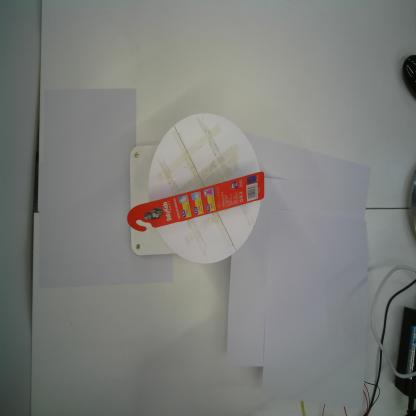Personal Hygiene: (127, 171, 265, 232)
